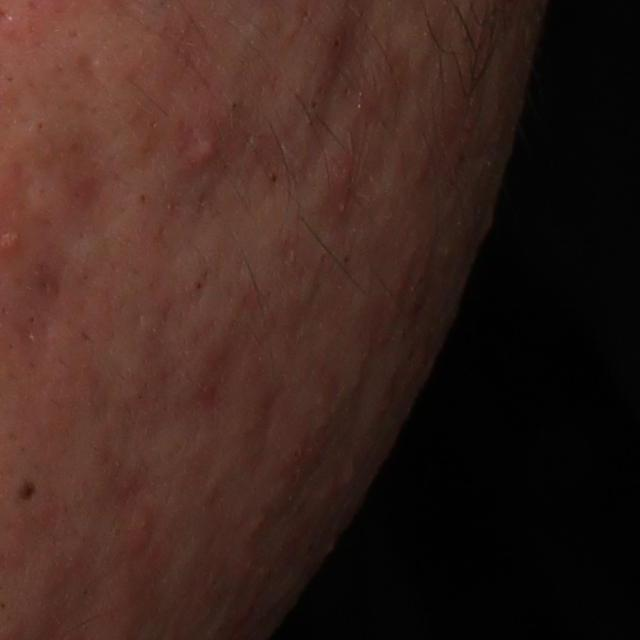atrophic_scar: (76, 52, 102, 88)
nevus: (13, 472, 40, 518)
papule: (126, 504, 162, 565), (187, 120, 227, 173)
